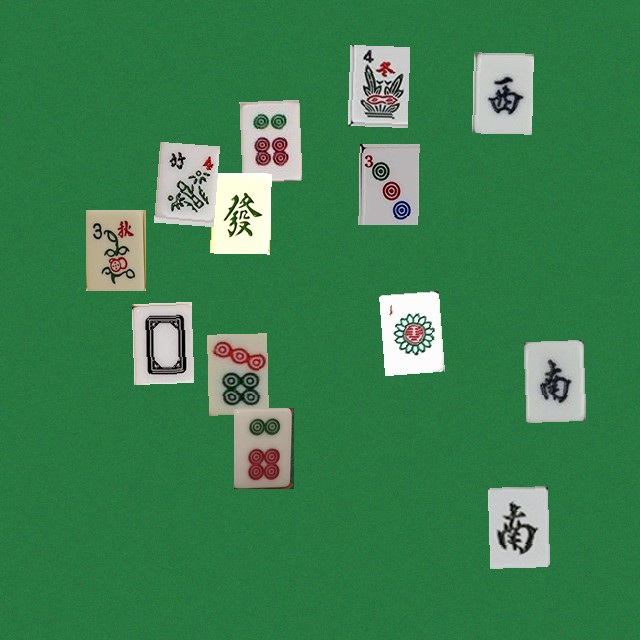tile: (487, 486, 547, 567), (207, 333, 267, 414), (233, 407, 293, 488), (523, 339, 583, 420), (358, 143, 418, 224), (239, 99, 299, 180), (210, 172, 270, 253), (131, 301, 191, 382), (153, 141, 213, 222), (347, 44, 407, 125), (472, 52, 532, 133), (85, 209, 145, 290), (379, 290, 439, 371)
